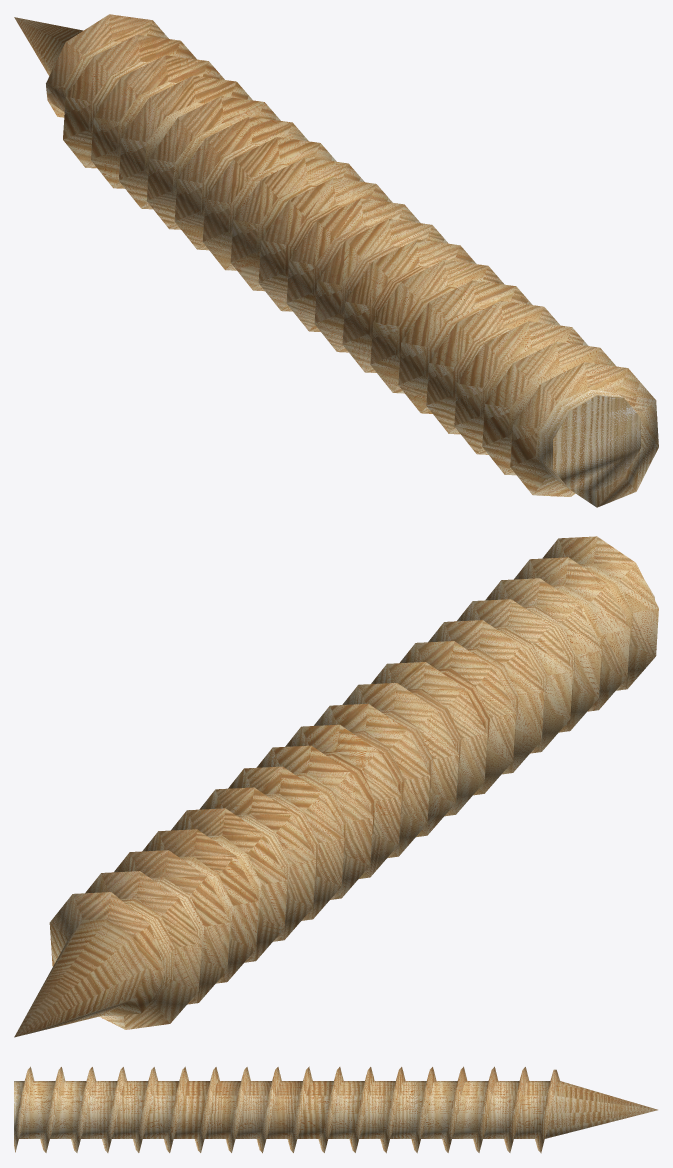
File: original-140.obj
The picture shows the model from 3 angles, top to bottom: view 1: azimuth 30°, elevation 25°; view 2: azimuth 150°, elevation 25°; view 3: azimuth 270°, elevation 25°; orthographic projection. The views are drawn at different scales.
Visible parts, largest first — view 1: Group107/mesh180/mesh180-geometry#mesh180-geometry; view 2: Group107/mesh180/mesh180-geometry#mesh180-geometry; view 3: Group107/mesh180/mesh180-geometry#mesh180-geometry.
Boxes of the visible parts, left/top/right/bottom form: Group107/mesh180/mesh180-geometry#mesh180-geometry: left=14, top=14, right=658, bottom=507; Group107/mesh180/mesh180-geometry#mesh180-geometry: left=14, top=536, right=658, bottom=1037; Group107/mesh180/mesh180-geometry#mesh180-geometry: left=14, top=1066, right=657, bottom=1153.
Bounding box in the file's own units: 0.00722 × 0.00759 × 0.0552.
